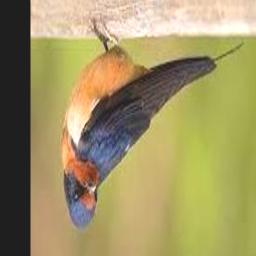Swallow: (60, 17, 244, 228)
